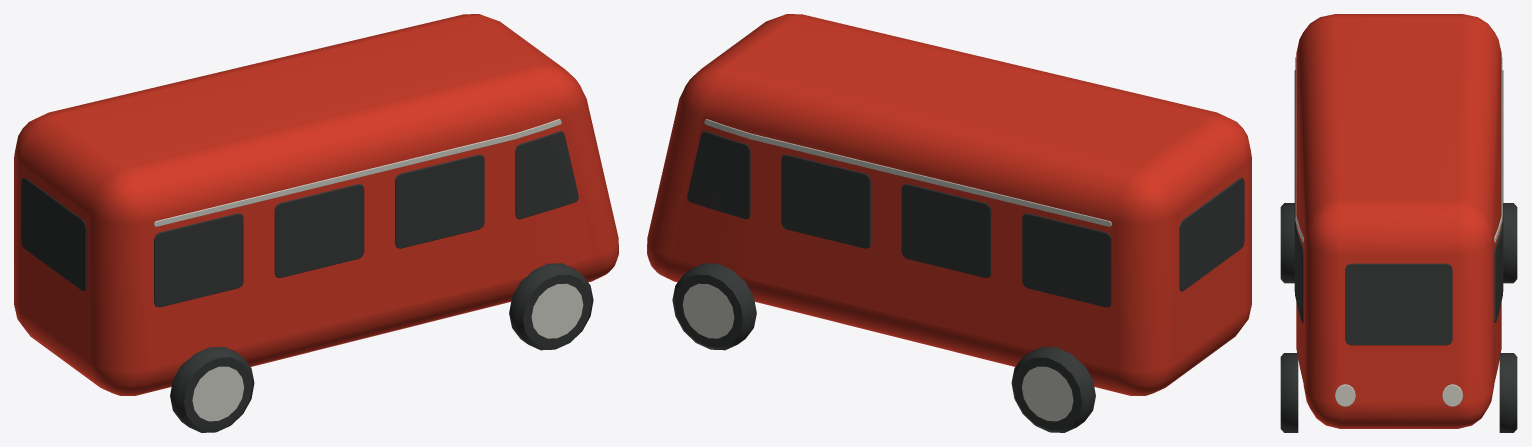
File: shuttle-bus.glb
3 views of the same model, side by side, from view 1: azimuth 30°, elevation 25°; view 2: azimuth 150°, elevation 25°; view 3: azimuth 270°, elevation 25° (orthographic). The views are drawn at different scales.
Visible parts, largest first — view 1: MobileBus.003; view 2: MobileBus.003; view 3: MobileBus.003.
Part boxes in pixels (x1,y1,x2,y2): MobileBus.003: (14,14,618,432); MobileBus.003: (647,14,1251,432); MobileBus.003: (1280,14,1517,432).
Bounding box in the file's own units: 5.94 × 2.78 × 2.55.
